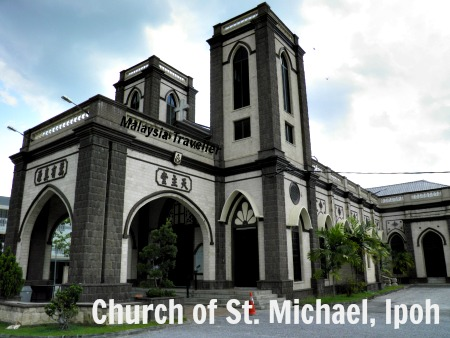Church: (15, 11, 438, 287)
